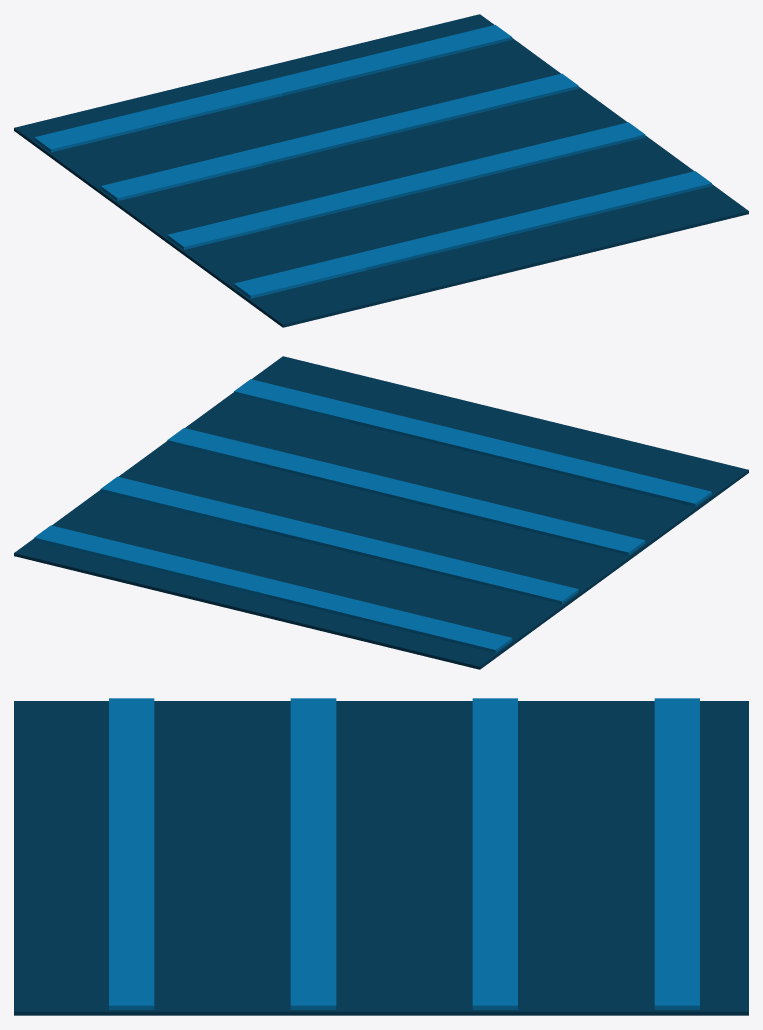
File: taylorParkWater.gltf
3 views of the same model, one above another, from view 1: azimuth 30°, elevation 25°; view 2: azimuth 150°, elevation 25°; view 3: azimuth 270°, elevation 25° (orthographic). The views are drawn at different scales.
Visible parts, largest first — view 1: cube; view 2: cube; view 3: cube.
Part boxes in pixels (box(x1,y1,x2,y2)): cube: box(14, 14, 748, 327); cube: box(14, 356, 748, 669); cube: box(14, 698, 748, 1015).
Bounding box in the file's own units: 1 × 0.0125 × 1.
Materials: 1 (1 with a texture image).
